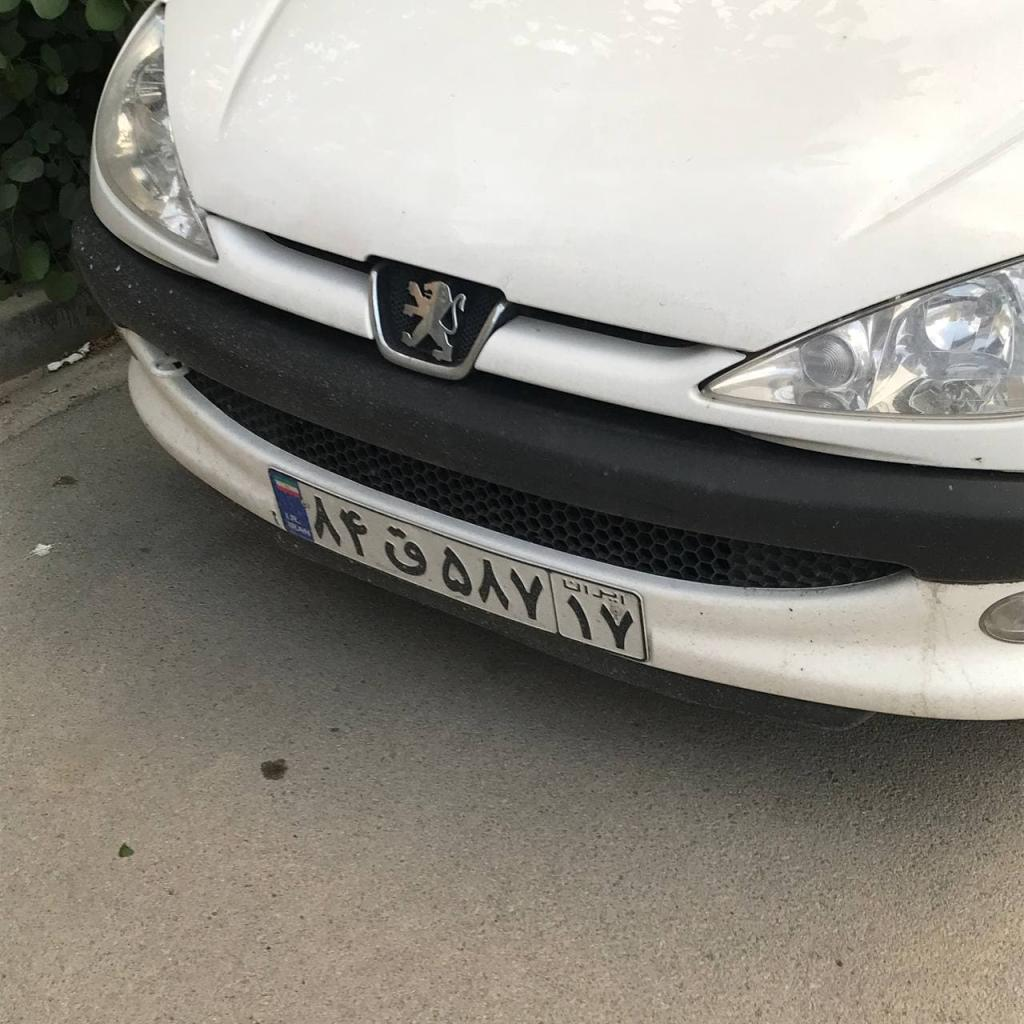Plates: (268, 466, 648, 665)
